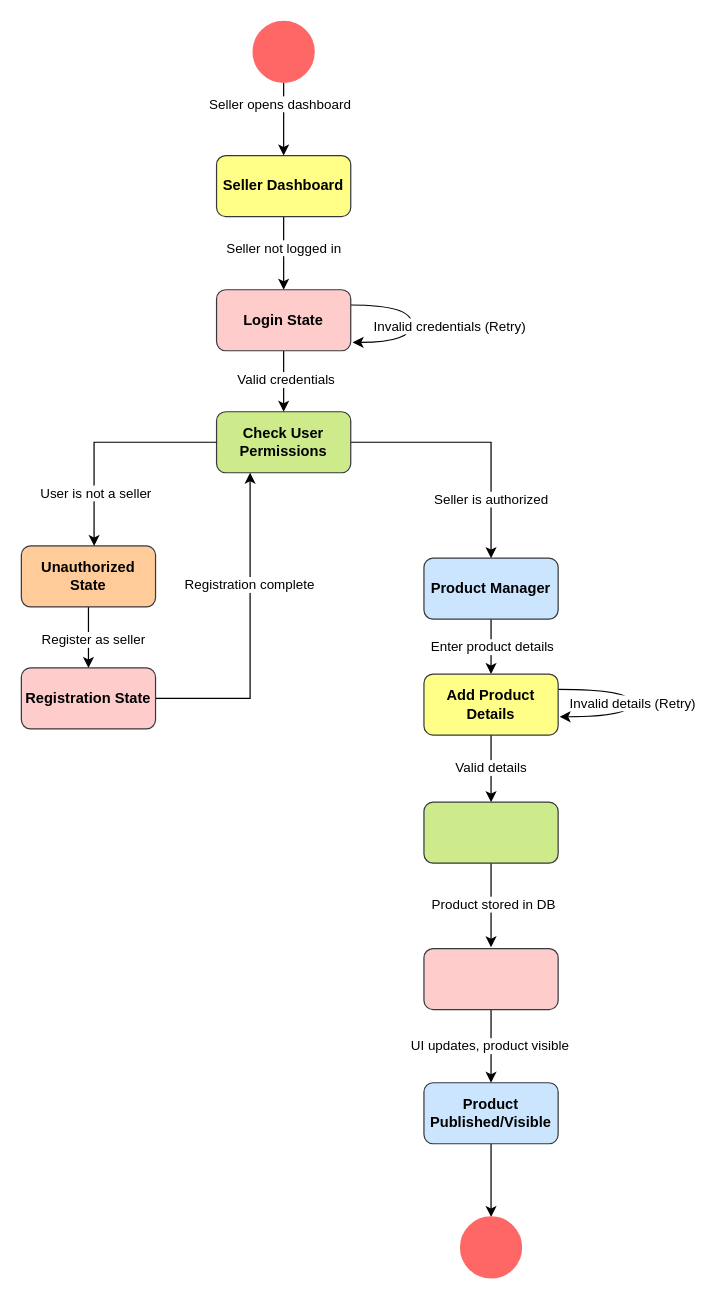
The diagram is 716 pixels wide and 1299 high, and some of its shapes have lost their labels. The centre of each missing label's shape, as x and y in pixels:
End: point 490,1247
Save Product to Database: point 490,832
Start: point 283,51
Update UI: point 490,978
